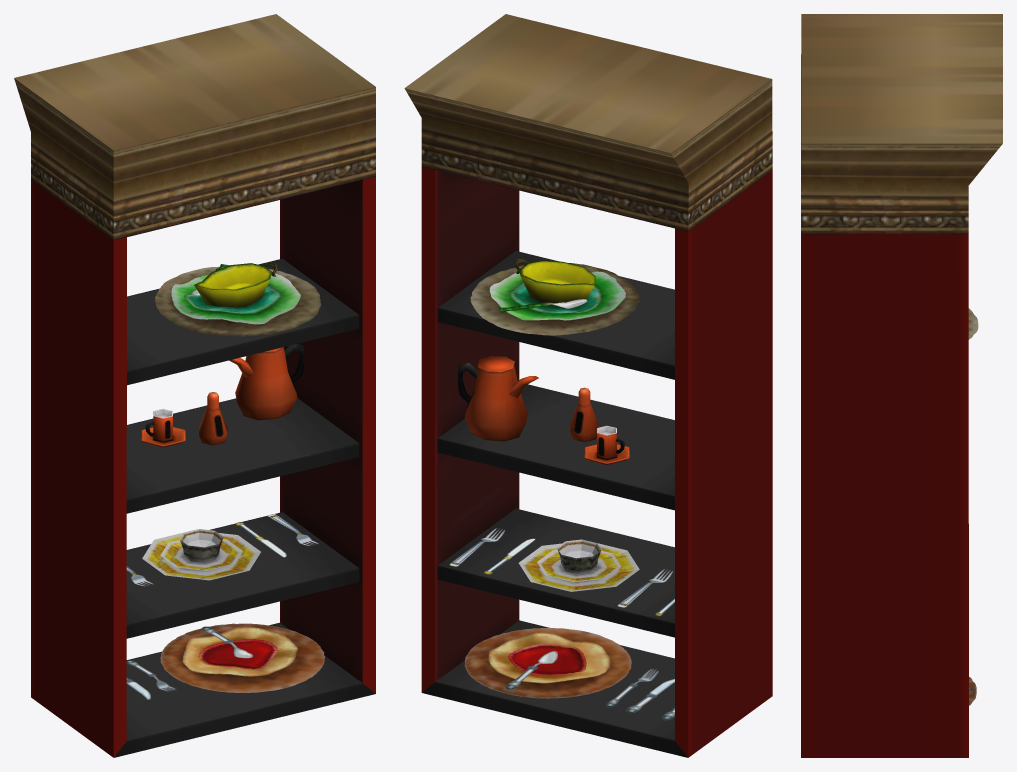
The model's file is furni_0200322.FBX.
3 views of the same model, side by side, from view 1: azimuth 30°, elevation 25°; view 2: azimuth 150°, elevation 25°; view 3: azimuth 270°, elevation 25° (orthographic).
Parts seen in each view (by area): view 1: furni_0200322; view 2: furni_0200322; view 3: furni_0200322.
Boxes of the visible parts, bbox=[...] form: furni_0200322: bbox=[14, 14, 375, 757]; furni_0200322: bbox=[404, 14, 772, 757]; furni_0200322: bbox=[801, 14, 1002, 757].
Bounding box in the file's own units: 81.43 × 180 × 53.62.
